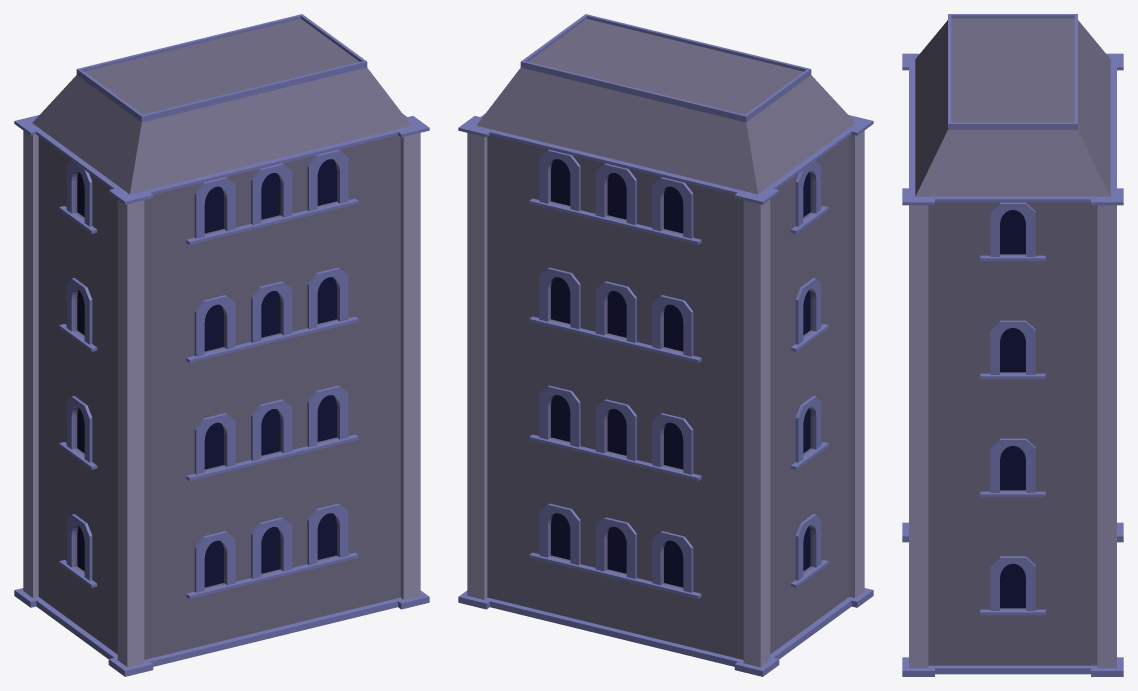
The model's file is House v4.fbx.
3 views of the same model, side by side, from view 1: azimuth 30°, elevation 25°; view 2: azimuth 150°, elevation 25°; view 3: azimuth 270°, elevation 25° (orthographic).
Parts seen in each view (by area): view 1: Building; view 2: Building; view 3: Building.
Boxes of the visible parts, x1,y1,x2,y2 form: Building: (14, 14, 429, 676); Building: (458, 14, 873, 676); Building: (902, 14, 1123, 676).
Size of the model in its own units: 340 by 540 by 905.
